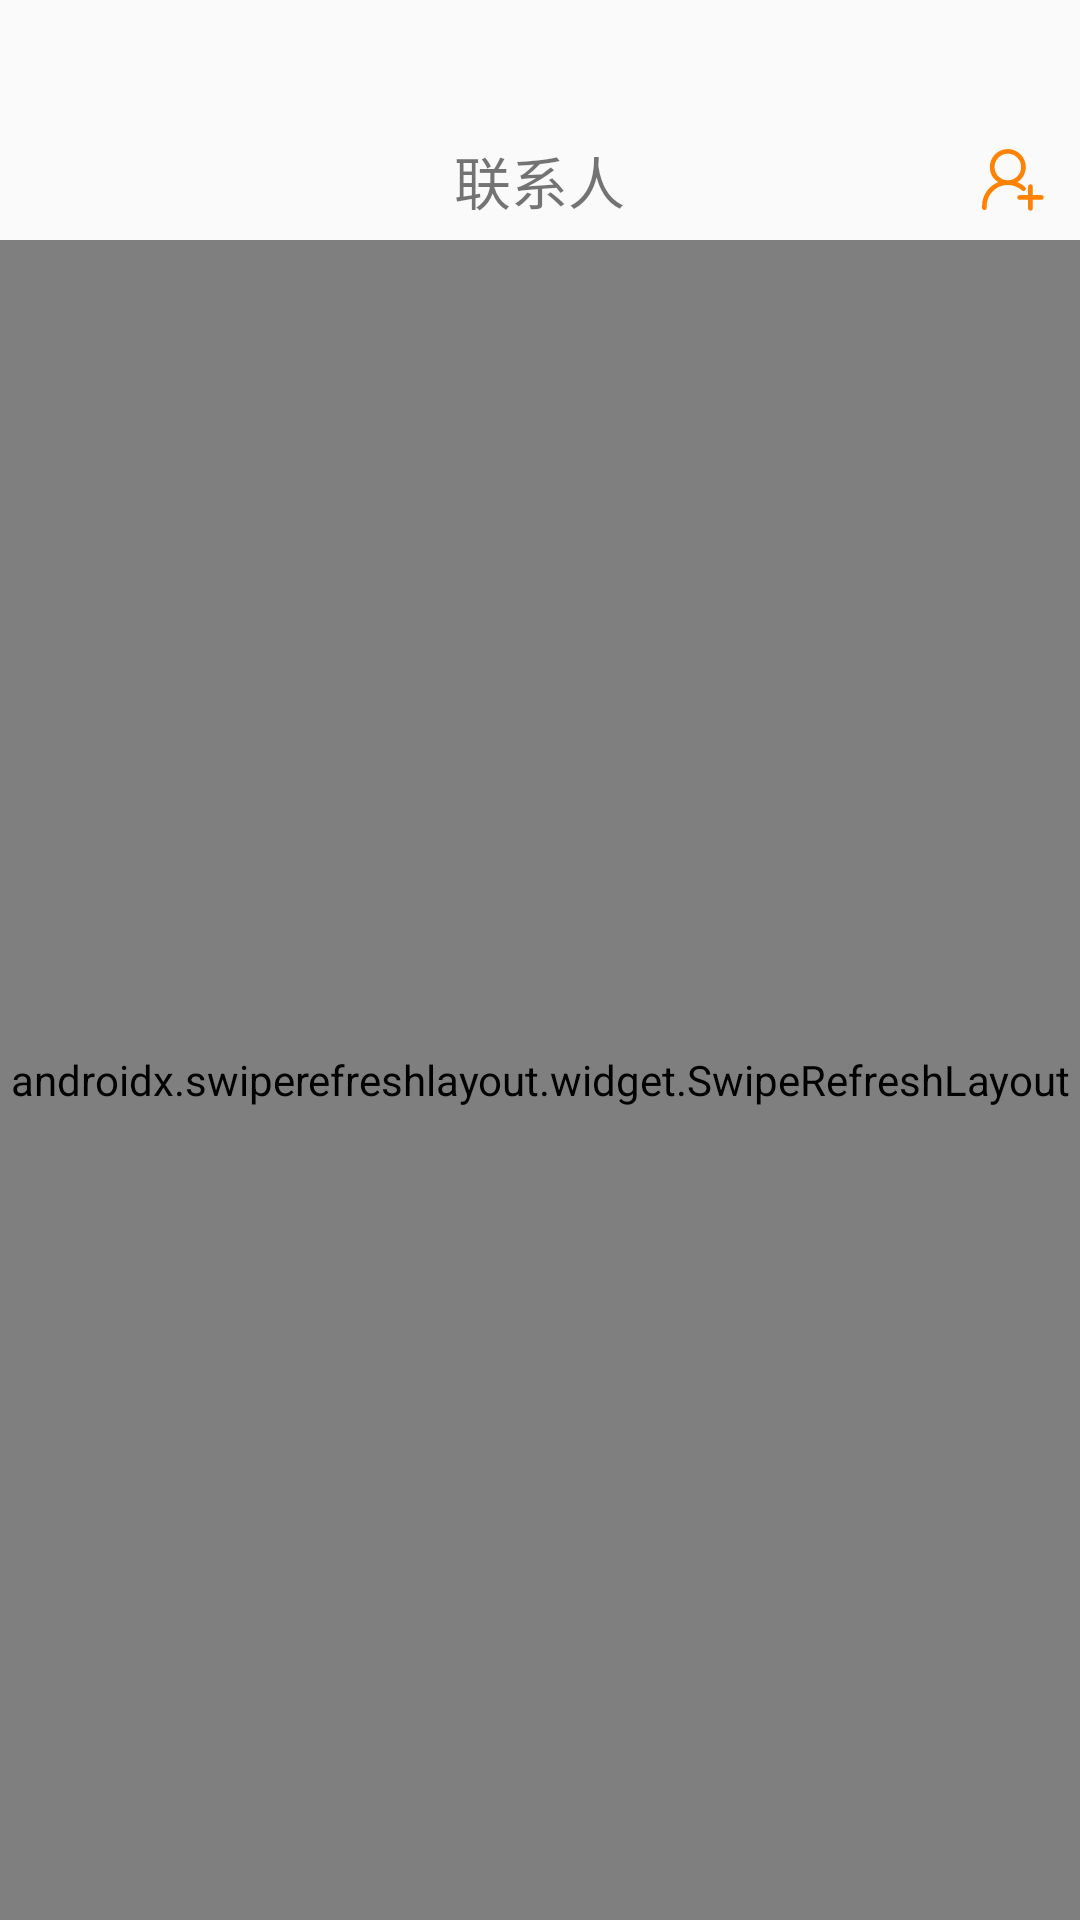

Where to tap for icons on this 1080*1920 app screen, as (x=x, y=y):
contact aad: (x=1013, y=180)
